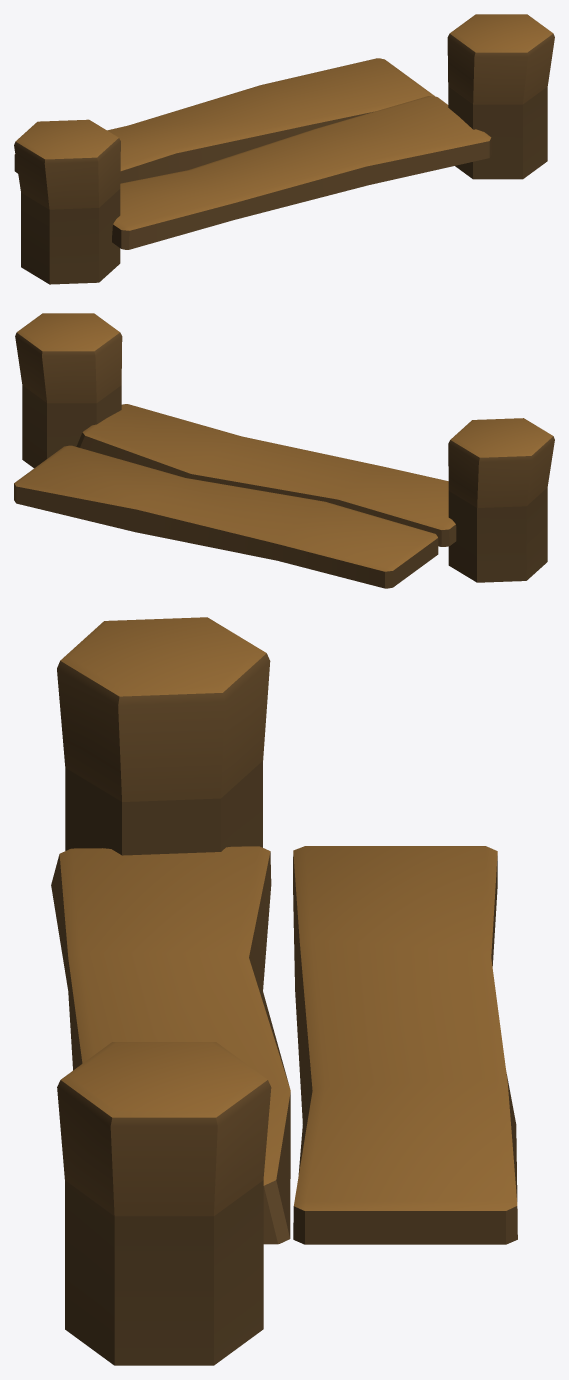
The model's file is pontoon1.fbx.
3 views of the same model, one above another, from view 1: azimuth 30°, elevation 25°; view 2: azimuth 150°, elevation 25°; view 3: azimuth 270°, elevation 25° (orthographic). The views are drawn at different scales.
Parts seen in each view (by area): view 1: Cylinder.006; view 2: Cylinder.006; view 3: Cylinder.006.
Part boxes in pixels (x1,y1,x2,y2): Cylinder.006: [14, 14, 554, 284]; Cylinder.006: [14, 313, 554, 588]; Cylinder.006: [51, 617, 517, 1365].
Bounding box in the file's own units: 191 × 45.29 × 74.79.
